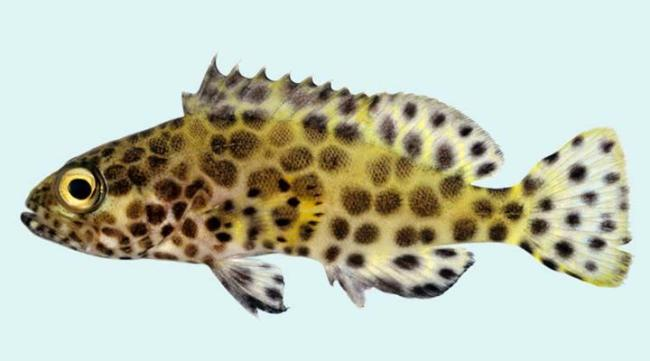fish: (20, 48, 634, 320)
